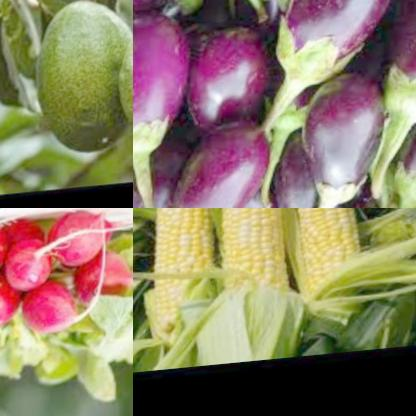avocado: (33, 0, 133, 172)
corn: (143, 208, 222, 346), (277, 208, 373, 318), (213, 208, 297, 317)
eggplant: (250, 0, 416, 135), (181, 6, 291, 146), (133, 2, 212, 184), (151, 112, 279, 208), (299, 89, 391, 208), (369, 0, 416, 159), (260, 119, 338, 208), (383, 84, 416, 208), (133, 139, 190, 208)
rediska: (46, 209, 114, 276), (17, 282, 80, 340), (71, 254, 133, 310), (2, 243, 53, 298), (0, 218, 46, 261), (0, 276, 22, 335)
